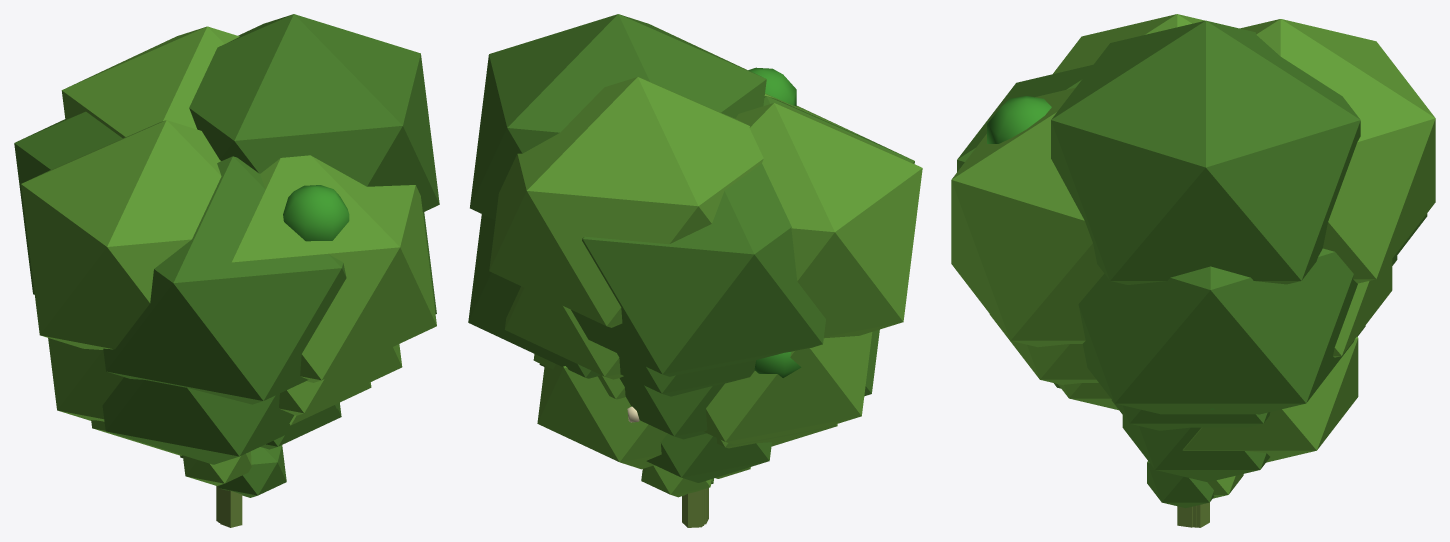
File: Crop_Veg_BellPepper.fbx
3 renders of one model, left to right at view 1: azimuth 30°, elevation 25°; view 2: azimuth 150°, elevation 25°; view 3: azimuth 270°, elevation 25°, orthographic. The views are drawn at different scales.
Visible parts, largest first — view 1: Crop_Veg_BellPepper__S4, Crop_Veg_BellPepper__S3, Crop_Veg_BellPepper__S1, Crop_Veg_BellPepper__S5, Crop_Veg_BellPepper__S2; view 2: Crop_Veg_BellPepper__S4, Crop_Veg_BellPepper__S3, Crop_Veg_BellPepper__S5, Crop_Veg_BellPepper__S2, Crop_Veg_BellPepper__S1; view 3: Crop_Veg_BellPepper__S4, Crop_Veg_BellPepper__S5, Crop_Veg_BellPepper__S3, Crop_Veg_BellPepper__S2, Crop_Veg_BellPepper__S1.
Boxes of the visible parts, <box> form: Crop_Veg_BellPepper__S4: <box>14,14,439,522</box>; Crop_Veg_BellPepper__S3: <box>48,338,402,521</box>; Crop_Veg_BellPepper__S1: <box>180,445,286,527</box>; Crop_Veg_BellPepper__S5: <box>91,382,371,520</box>; Crop_Veg_BellPepper__S2: <box>260,402,341,449</box>; Crop_Veg_BellPepper__S4: <box>468,14,922,525</box>; Crop_Veg_BellPepper__S3: <box>505,286,879,526</box>; Crop_Veg_BellPepper__S5: <box>533,354,837,527</box>; Crop_Veg_BellPepper__S2: <box>646,433,771,521</box>; Crop_Veg_BellPepper__S1: <box>641,465,750,524</box>; Crop_Veg_BellPepper__S4: <box>951,14,1435,527</box>; Crop_Veg_BellPepper__S5: <box>1058,337,1358,527</box>; Crop_Veg_BellPepper__S3: <box>989,256,1397,388</box>; Crop_Veg_BellPepper__S2: <box>1122,415,1269,527</box>; Crop_Veg_BellPepper__S1: <box>1147,461,1243,527</box>.
Size of the model in its own units: 0.1943 by 0.229 by 0.1862.
